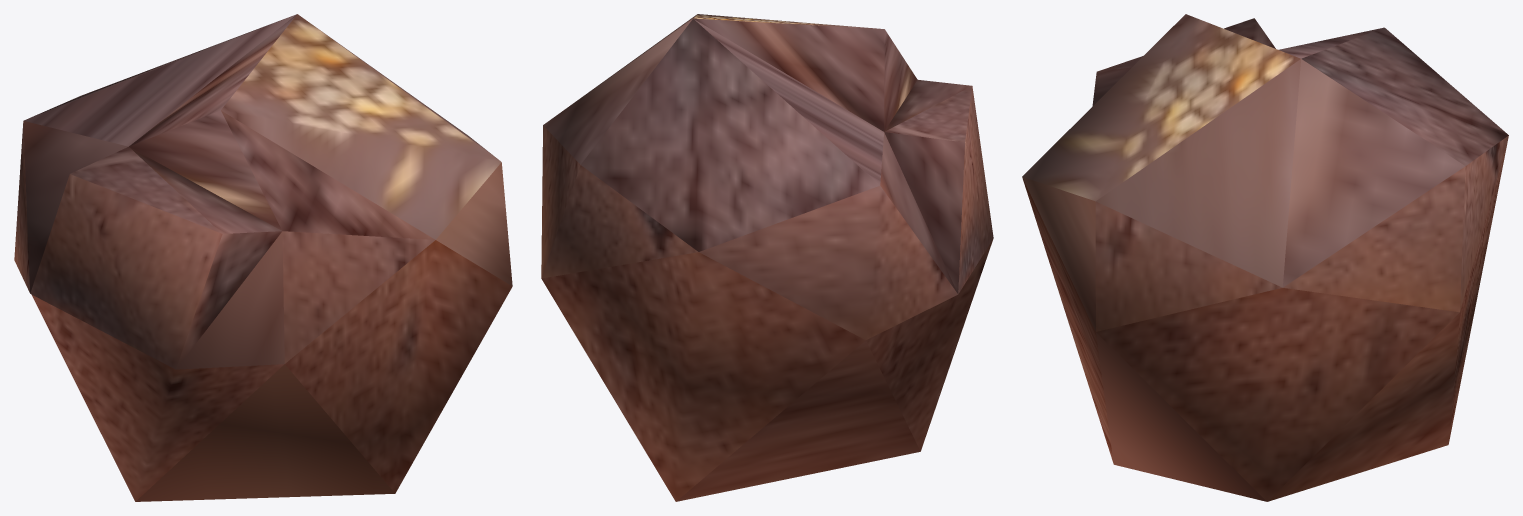
Rendered from muffin_40.obj.
3 views of the same model, side by side, from view 1: azimuth 30°, elevation 25°; view 2: azimuth 150°, elevation 25°; view 3: azimuth 270°, elevation 25° (orthographic).
Bounding box in the file's own units: 14.07 × 13.17 × 14.05.
Materials: 1 (1 with a texture image).
